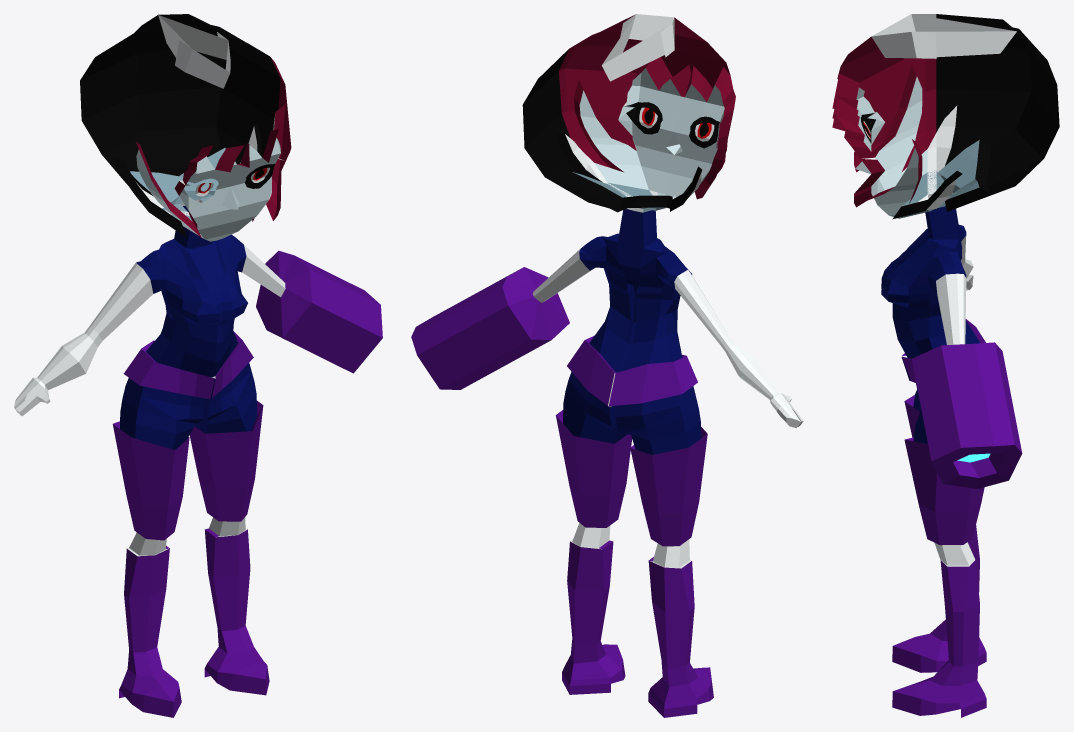
File: Playertest.fbx
3 views of the same model, side by side, from view 1: azimuth 30°, elevation 25°; view 2: azimuth 150°, elevation 25°; view 3: azimuth 270°, elevation 25° (orthographic).
Parts seen in each view (by area): view 1: Cylinder; view 2: Cylinder; view 3: Cylinder.
Part boxes in pixels (<box>): Cylinder: <box>14,14,382,717</box>; Cylinder: <box>411,14,803,717</box>; Cylinder: <box>832,14,1059,717</box>.
Bounding box in the file's own units: 139 × 238 × 74.16.
